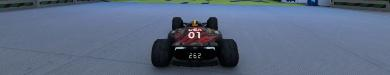Car: (150, 16, 238, 67)
curve: (0, 3, 389, 73)
grass: (107, 0, 306, 6)
obstacles-Borders: (0, 0, 101, 13), (329, 0, 389, 11)
